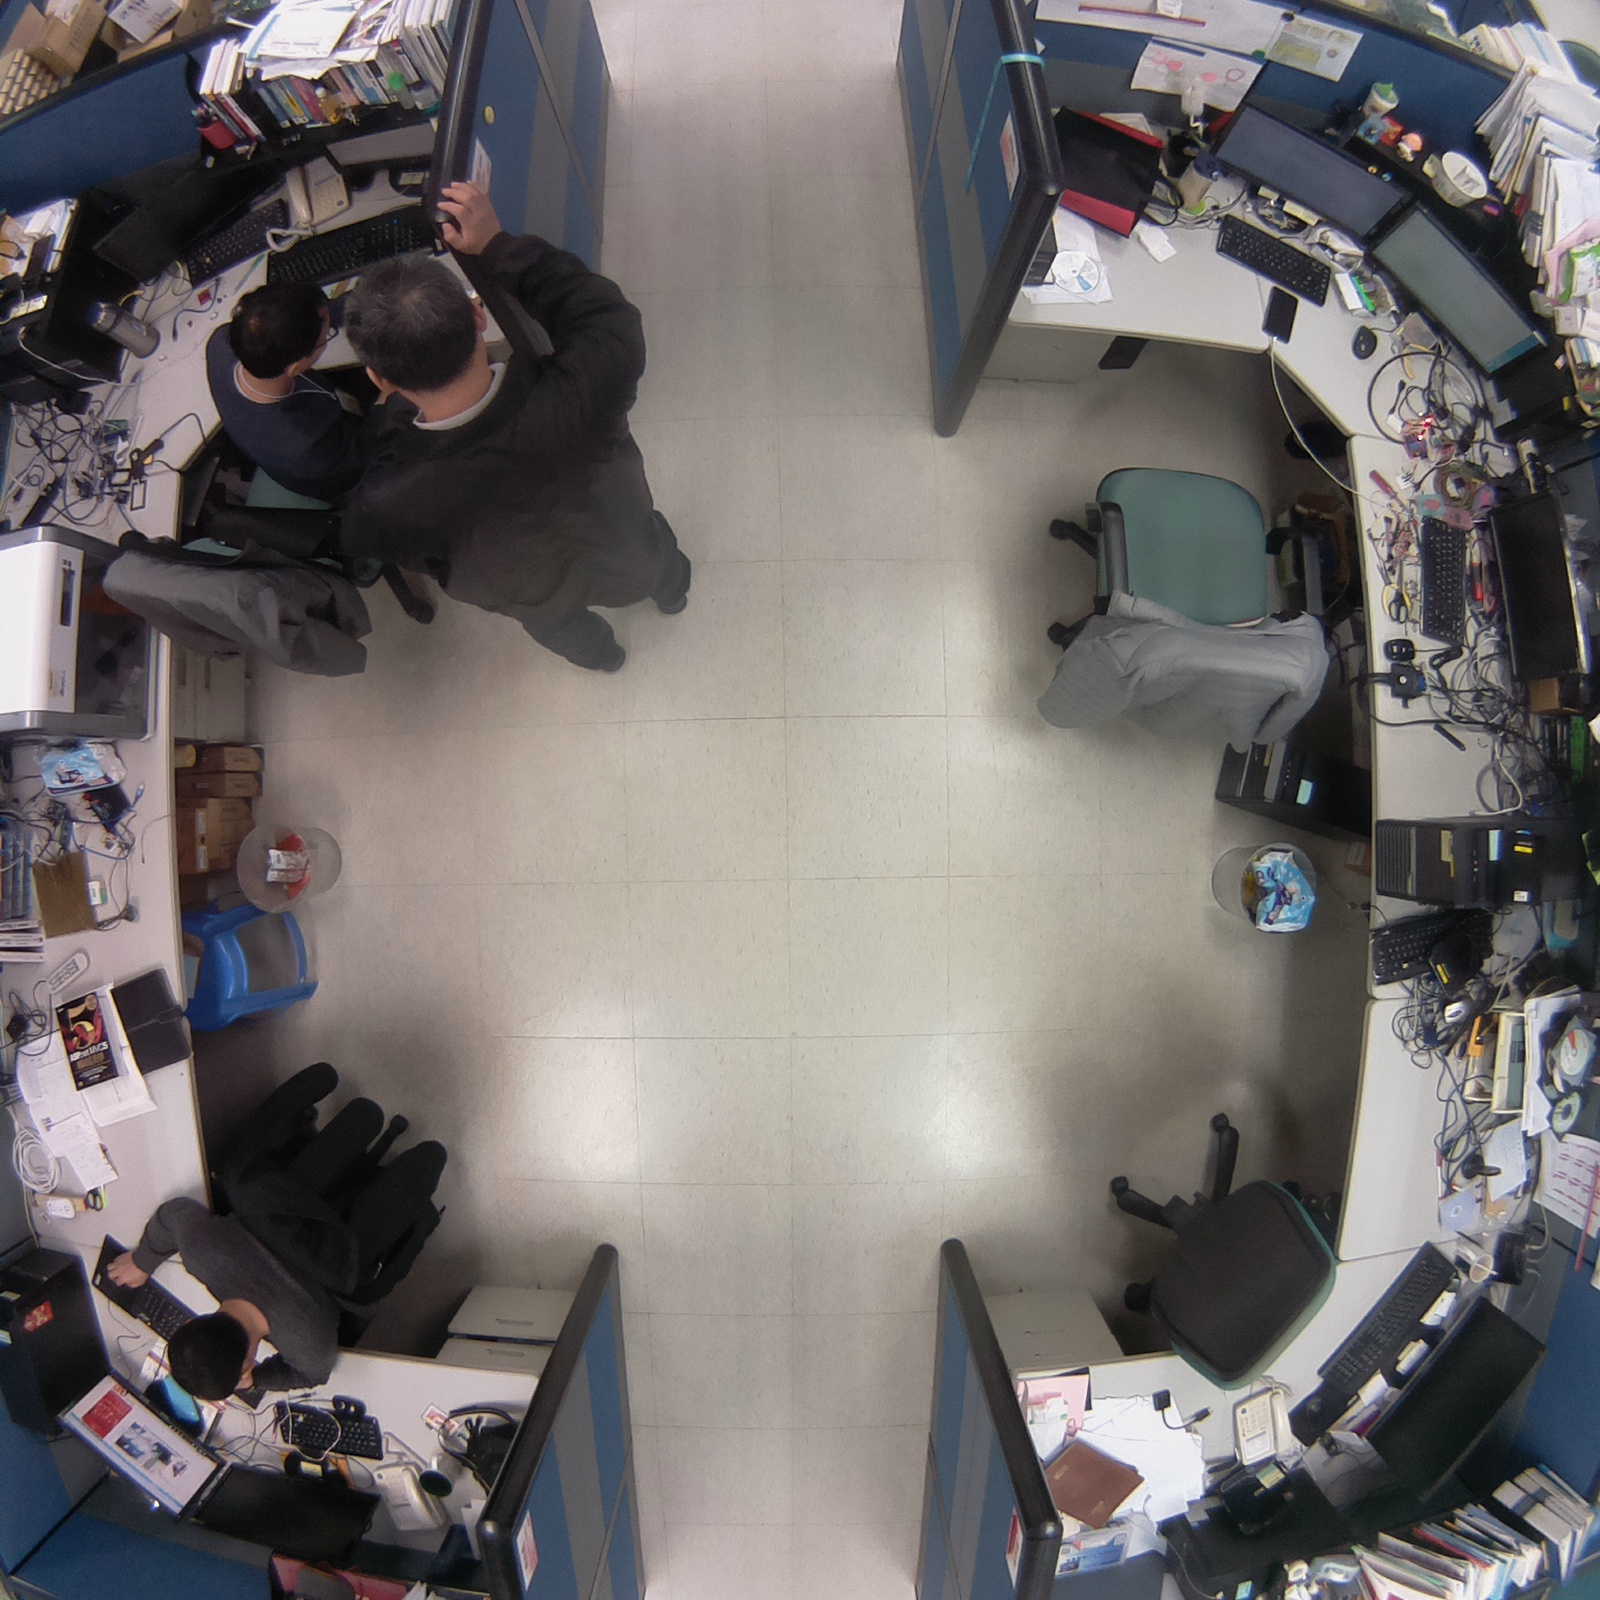chair: (1019, 442, 1353, 781), (1076, 1099, 1345, 1409)
head: (338, 248, 493, 400), (227, 282, 340, 378), (163, 1306, 259, 1406)
sitting: (95, 1045, 473, 1417), (91, 273, 399, 693)
standing: (330, 180, 704, 681)
